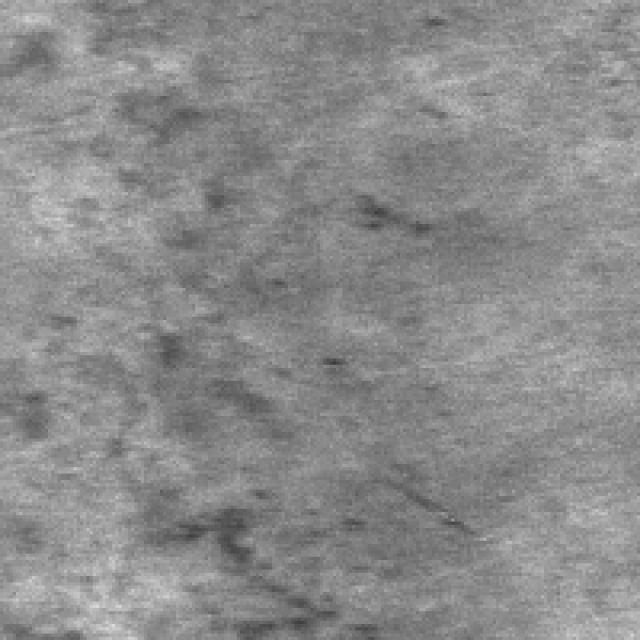rolled-in_scale: (0, 320, 410, 630), (96, 83, 410, 275)
